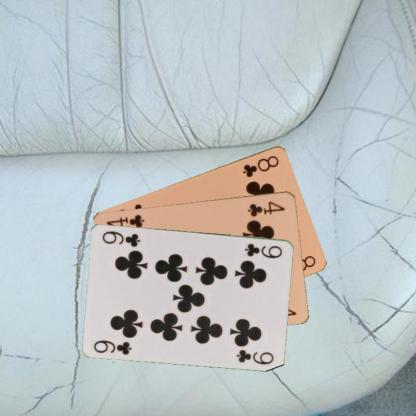4c: (245, 198, 287, 218)
8c: (240, 152, 281, 178)
9c: (242, 240, 284, 260), (91, 337, 133, 356)
